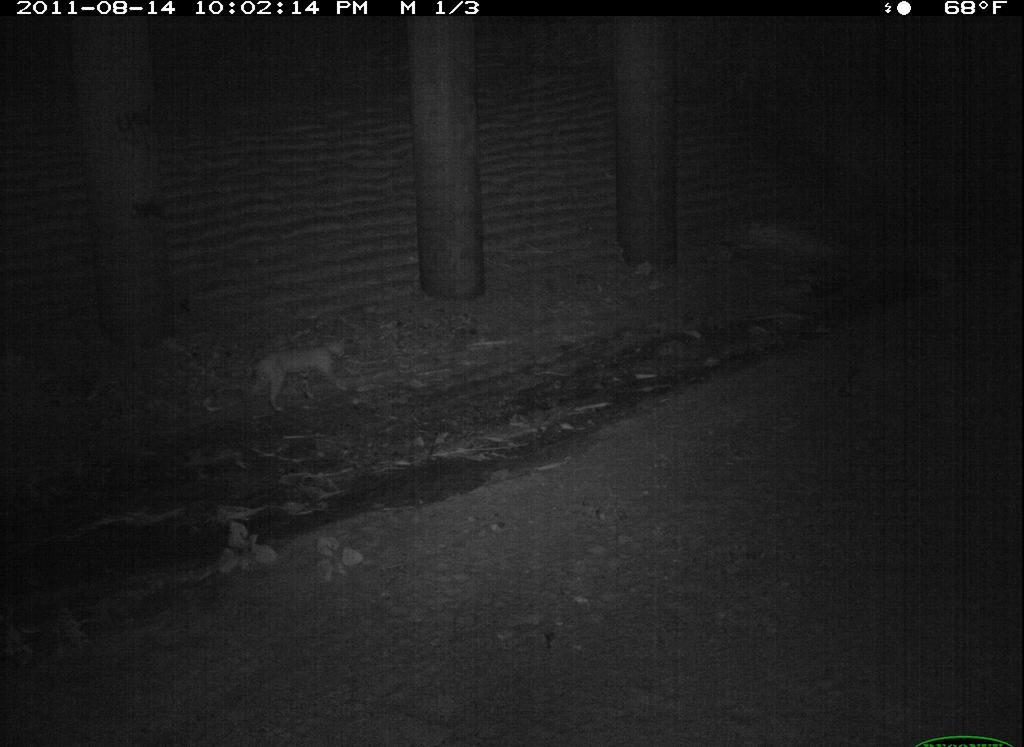bobcat: (470, 657, 716, 747)
